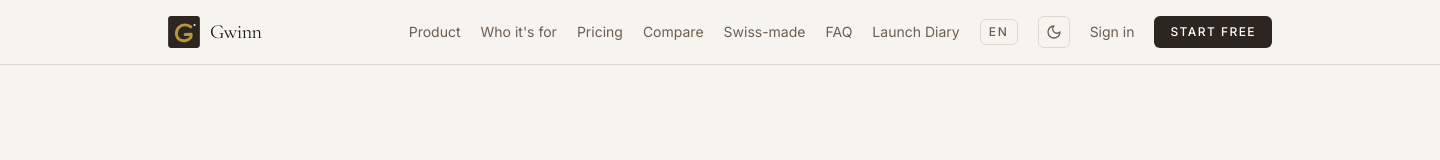
MarketingNav — language picker › switches the UI language, persists it, and updates <html lang>
The width and height of the screenshot is (1440, 160).
Select "FR" in the dropdown named "Switch language" at point(999, 32), box [980,19,1018,45]
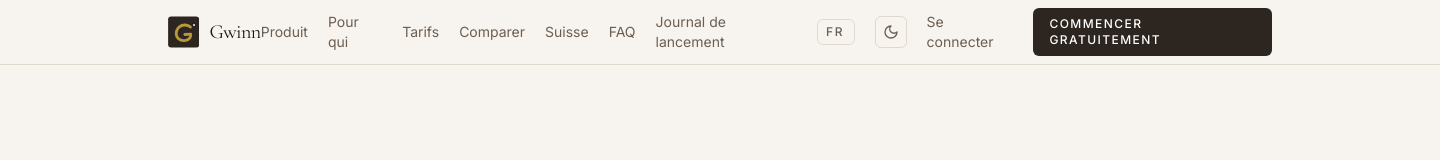
Expected: the link "Tarifs" is shown, [402,22,439,42]
Expected: the link "Pricing" is gone
